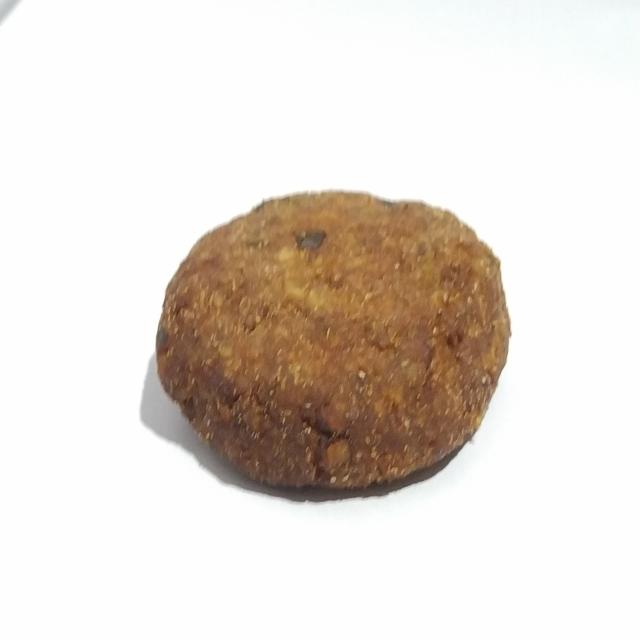Pajagua: (144, 181, 522, 512)
